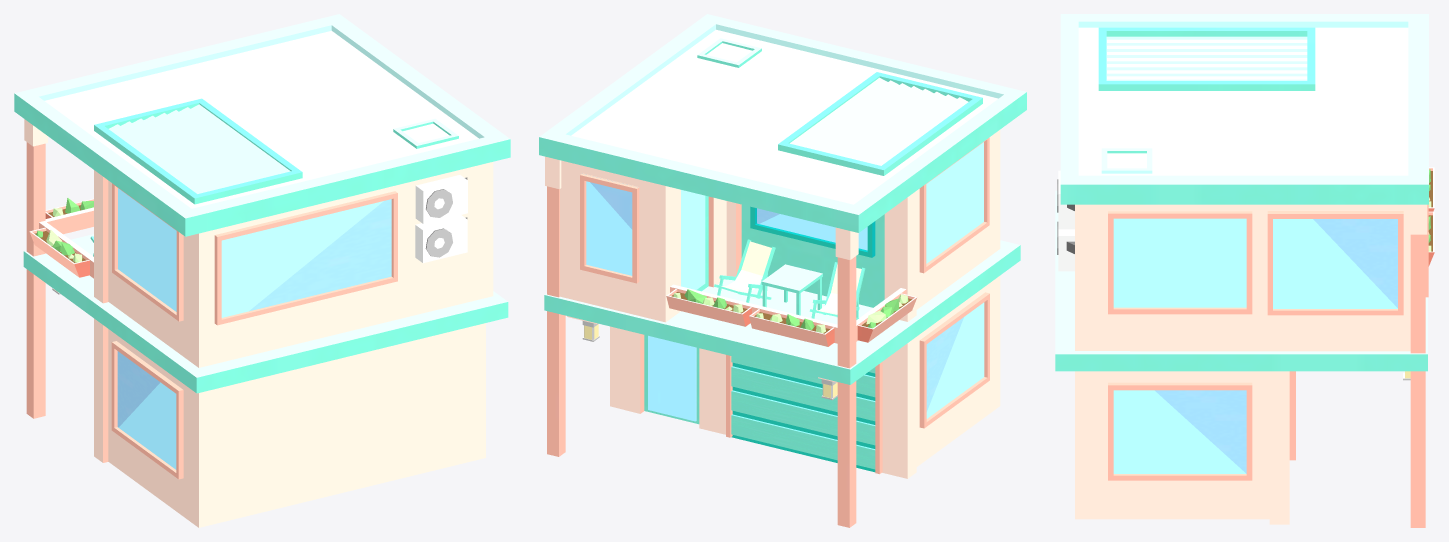
File: dwelling modern.007.glb
3 views of the same model, side by side, from view 1: azimuth 30°, elevation 25°; view 2: azimuth 150°, elevation 25°; view 3: azimuth 270°, elevation 25° (orthographic). The views are drawn at different scales.
Visible parts, largest first — view 1: dwelling modern.007(Clone); view 2: dwelling modern.007(Clone); view 3: dwelling modern.007(Clone).
Boxes of the visible parts, left/top/right/bottom form: dwelling modern.007(Clone): left=14, top=14, right=510, bottom=527; dwelling modern.007(Clone): left=539, top=14, right=1026, bottom=527; dwelling modern.007(Clone): left=1055, top=14, right=1434, bottom=527.
Size of the model in its own units: 6.51 by 6.17 by 6.11.
1 material, 1 textured.
